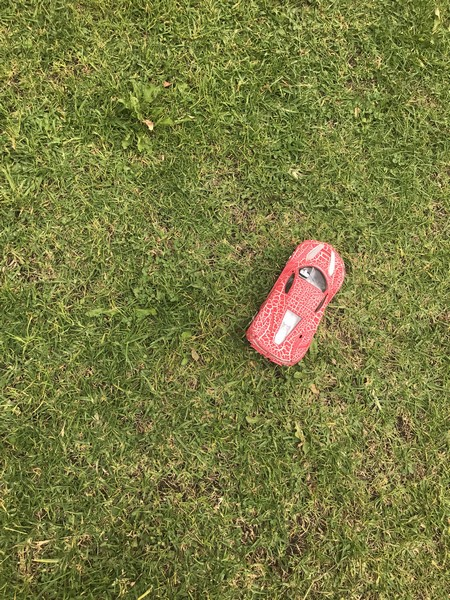RC: (244, 238, 348, 369)
